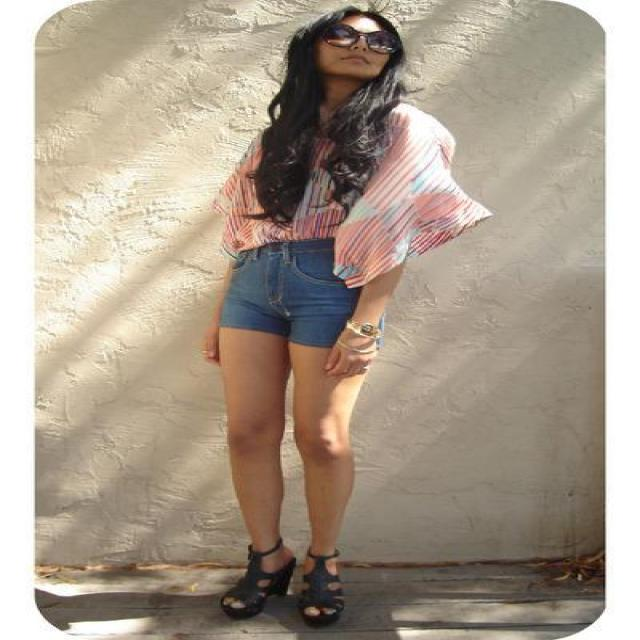shirt: (203, 103, 491, 287)
shoe: (221, 540, 342, 626)
shorts: (219, 232, 362, 348)
